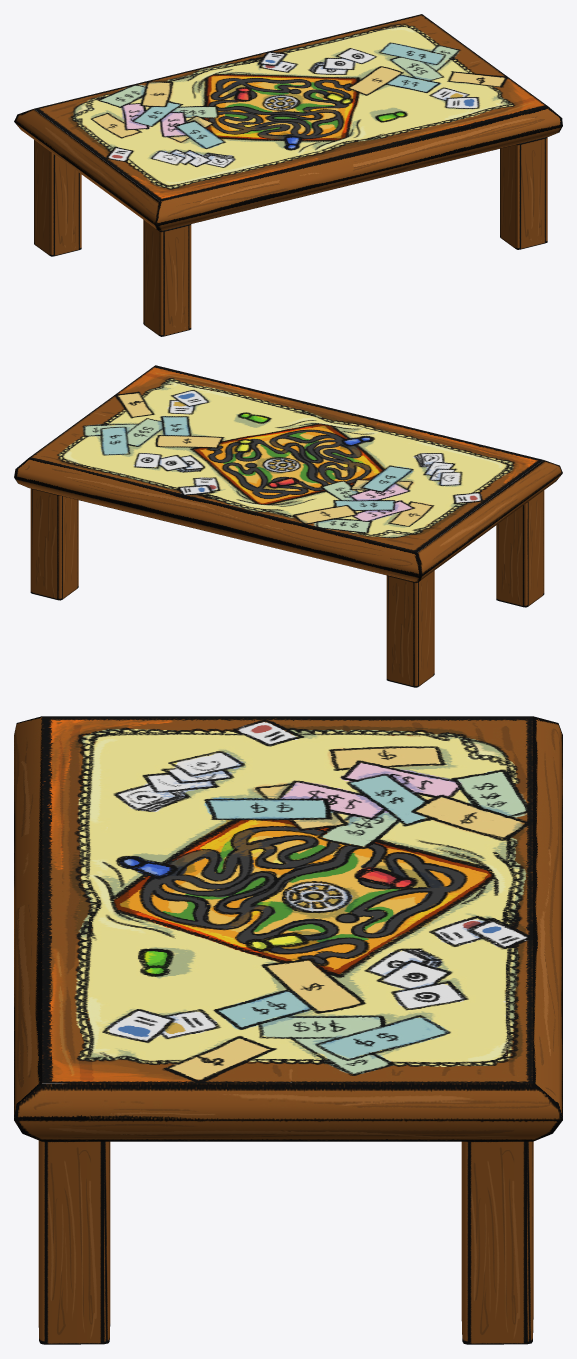
Rendered from Table_Past.fbx.
The picture shows the model from 3 angles, top to bottom: view 1: azimuth 30°, elevation 25°; view 2: azimuth 150°, elevation 25°; view 3: azimuth 270°, elevation 25°; orthographic projection. The views are drawn at different scales.
Parts seen in each view (by area): view 1: pCube2, pasted__pCube3, pasted__pCube4, pasted__pCube2; view 2: pCube2, pasted__pCube2, pasted__pCube5, pasted__pCube3; view 3: pCube2, pasted__pCube4, pasted__pCube5.
Boxes of the visible parts, x1,y1,x2,y2 form: pCube2: (14,14,562,231); pasted__pCube3: (143,220,191,336); pasted__pCube4: (500,137,547,249); pasted__pCube2: (34,140,81,256); pCube2: (14,365,562,582); pasted__pCube2: (386,570,434,687); pasted__pCube5: (30,488,78,600); pasted__pCube3: (496,490,544,607); pCube2: (14,716,562,1141); pasted__pCube4: (38,1140,110,1344); pasted__pCube5: (461,1141,533,1344).
Bounding box in the file's own units: 8.05 × 2.55 × 4.85.
2 materials, 2 textured.
